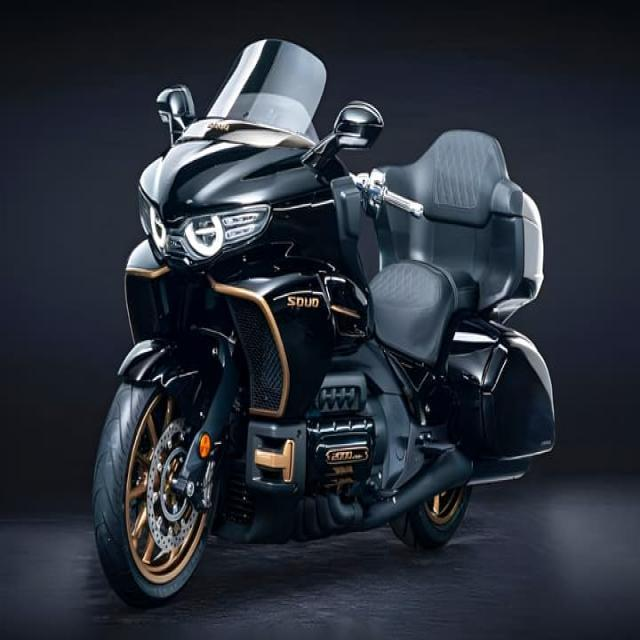motorcycle: (90, 36, 556, 608)
